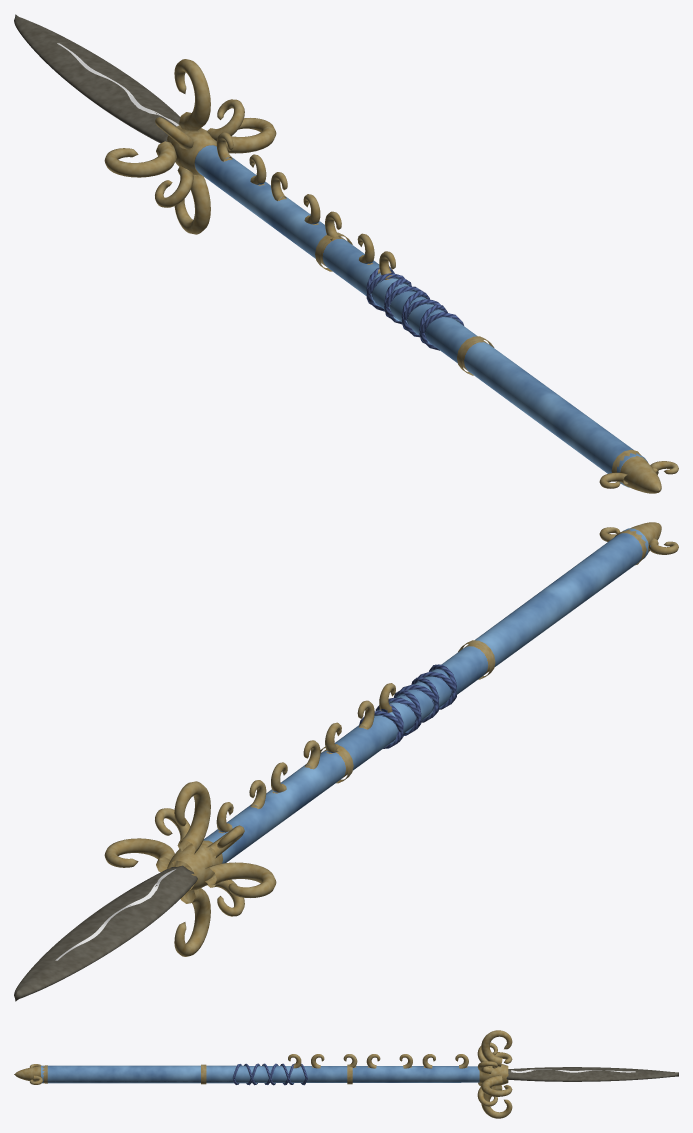
File: Spear5.fbx
The picture shows the model from 3 angles, top to bottom: view 1: azimuth 30°, elevation 25°; view 2: azimuth 150°, elevation 25°; view 3: azimuth 270°, elevation 25°; orthographic projection. The views are drawn at different scales.
Parts seen in each view (by area): view 1: Spear5_Body; view 2: Spear5_Body; view 3: Spear5_Body, Spear5_Glow_ffaa1e.
Boxes of the visible parts, bbox=[...] form: Spear5_Body: bbox=[14, 14, 678, 493]; Spear5_Body: bbox=[14, 522, 678, 1001]; Spear5_Body: bbox=[14, 1030, 678, 1118]; Spear5_Glow_ffaa1e: bbox=[511, 1069, 635, 1072].
Bounding box in the file's own units: 1.47 × 1.47 × 10.01.
Materials: 2 (1 with a texture image).
